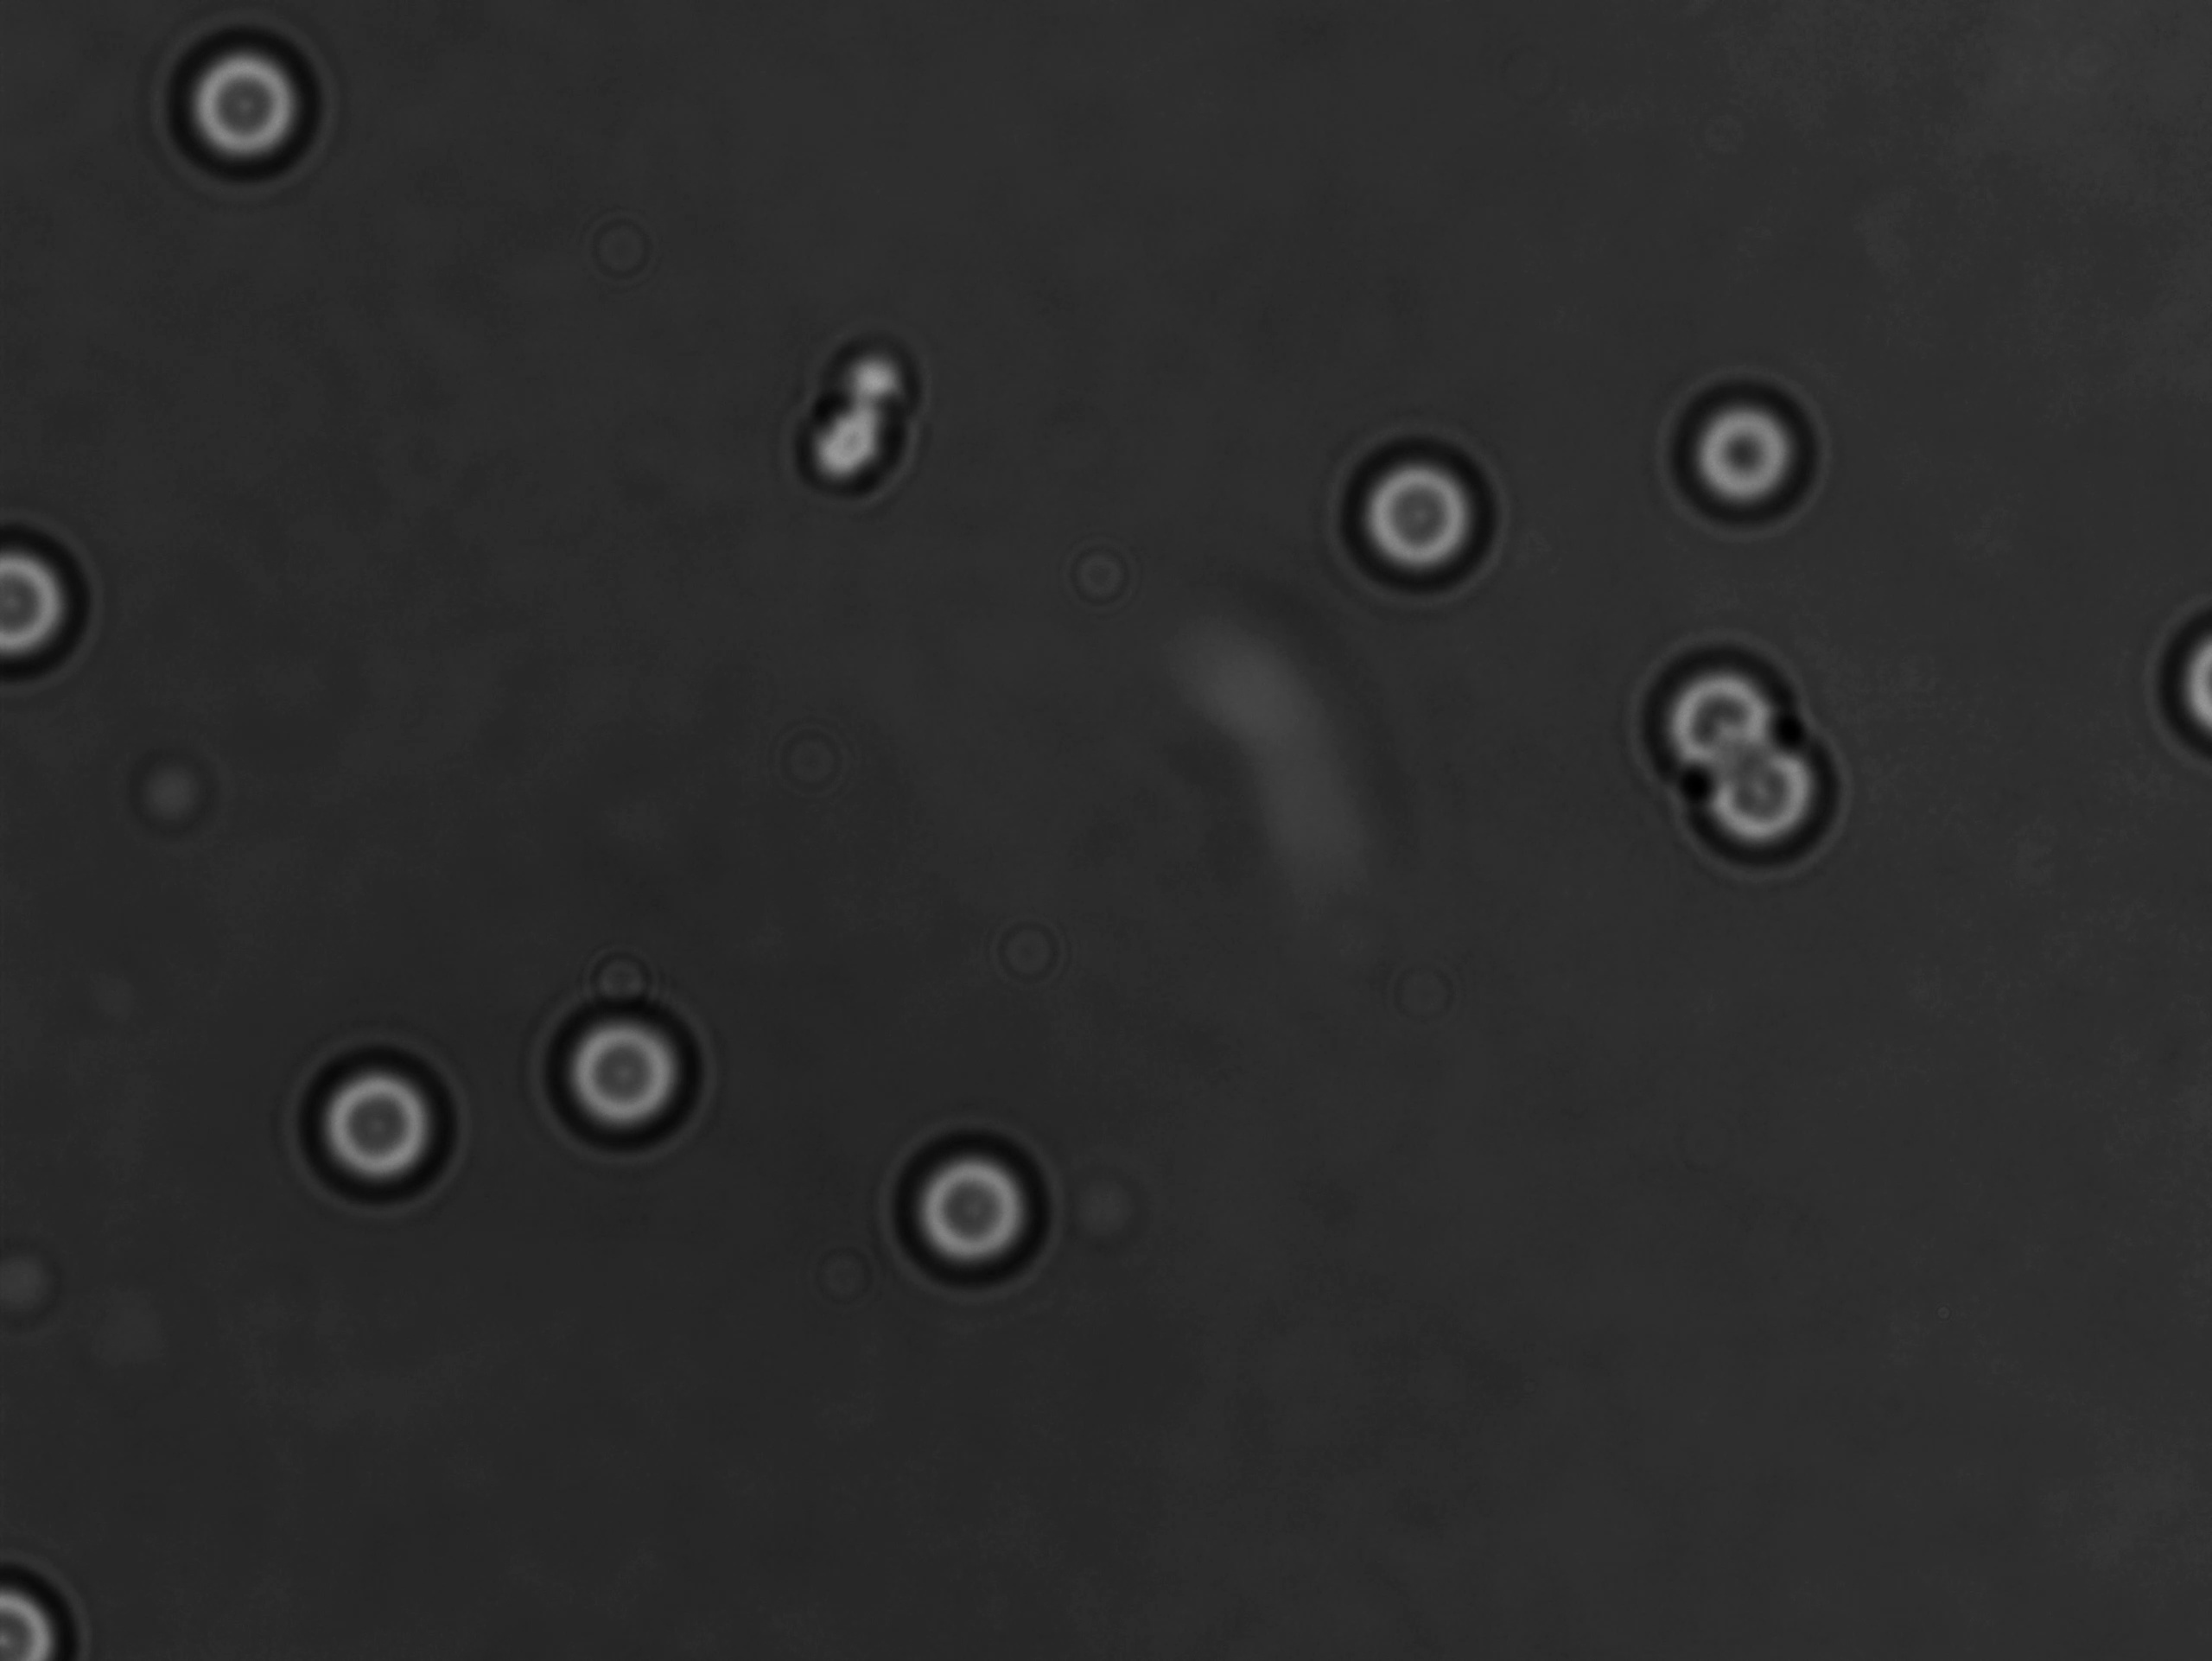depth:20: (293, 1038, 473, 1204), (1333, 426, 1499, 595), (1657, 372, 1818, 546), (544, 989, 710, 1153), (891, 1132, 1062, 1286), (167, 26, 314, 183)
